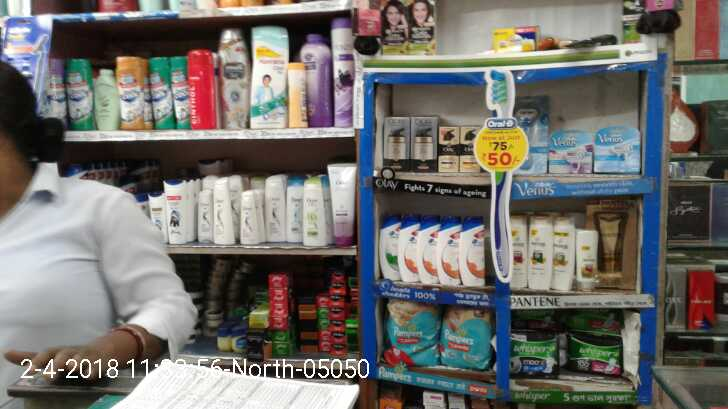venus: (517, 97, 548, 169), (595, 125, 640, 171), (551, 127, 590, 171)
